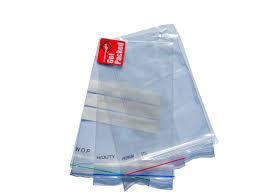Plastic: (70, 13, 220, 193)
